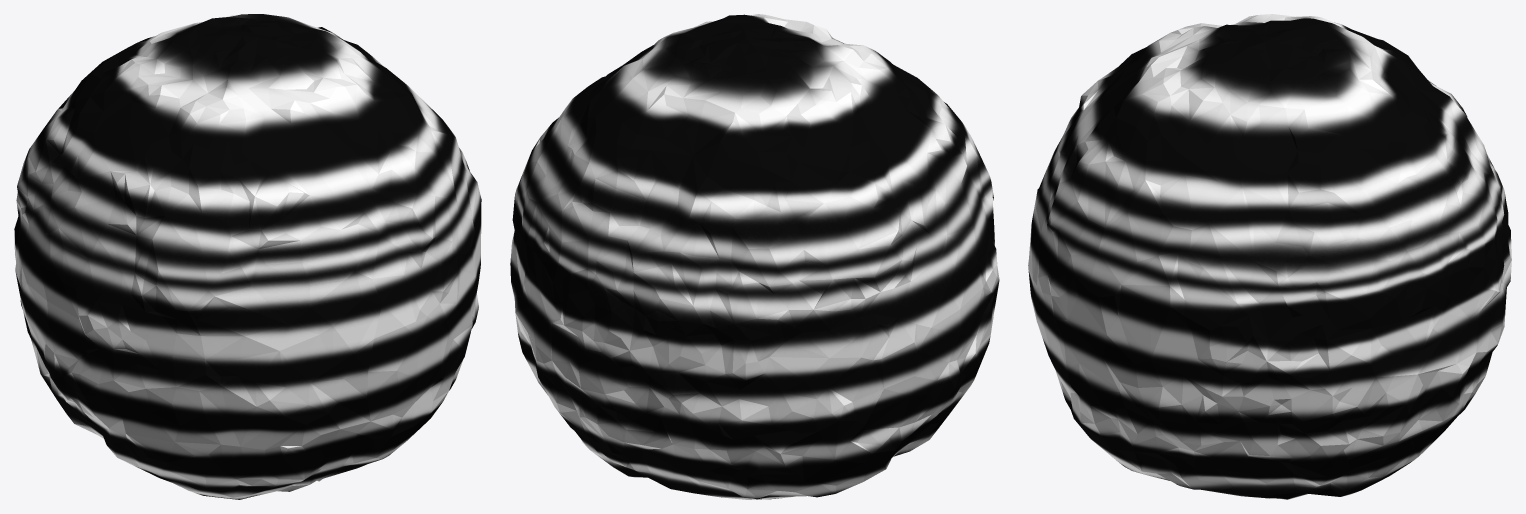
The model's file is SM_Env_Planet_05.fbx.
3 views of the same model, side by side, from view 1: azimuth 30°, elevation 25°; view 2: azimuth 150°, elevation 25°; view 3: azimuth 270°, elevation 25° (orthographic). The views are drawn at different scales.
Parts seen in each view (by area): view 1: SM_Env_Planet_05_LOD0; view 2: SM_Env_Planet_05_LOD0; view 3: SM_Env_Planet_05_LOD0.
Part boxes in pixels (x1,y1,x2,y2): SM_Env_Planet_05_LOD0: (14, 14, 481, 499); SM_Env_Planet_05_LOD0: (510, 14, 999, 499); SM_Env_Planet_05_LOD0: (1028, 14, 1511, 499).
Size of the model in its own units: 44743 by 44764 by 44682.
1 material, 1 textured.
